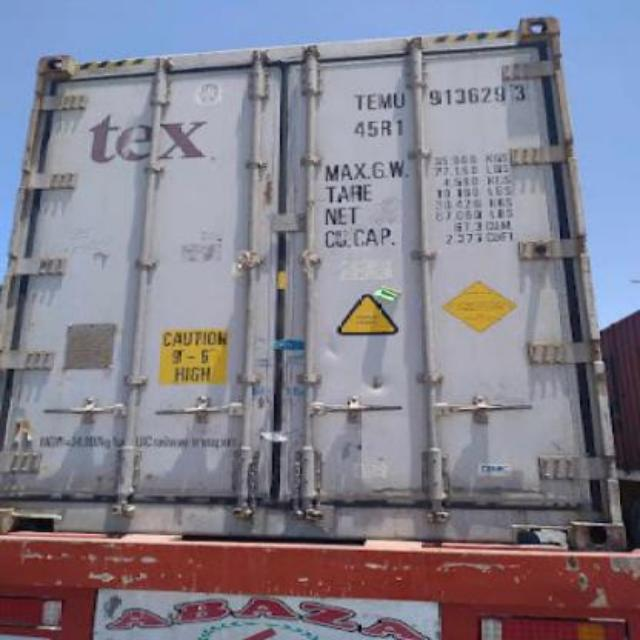1: (442, 88, 454, 108)
2: (480, 84, 492, 104)
3: (454, 87, 466, 107), (514, 85, 526, 102)
6: (468, 87, 478, 105)
9: (426, 89, 442, 107), (494, 86, 506, 104)
E: (366, 93, 378, 111)
M: (380, 94, 392, 110)
T: (352, 92, 366, 111)
U: (392, 94, 406, 110)
